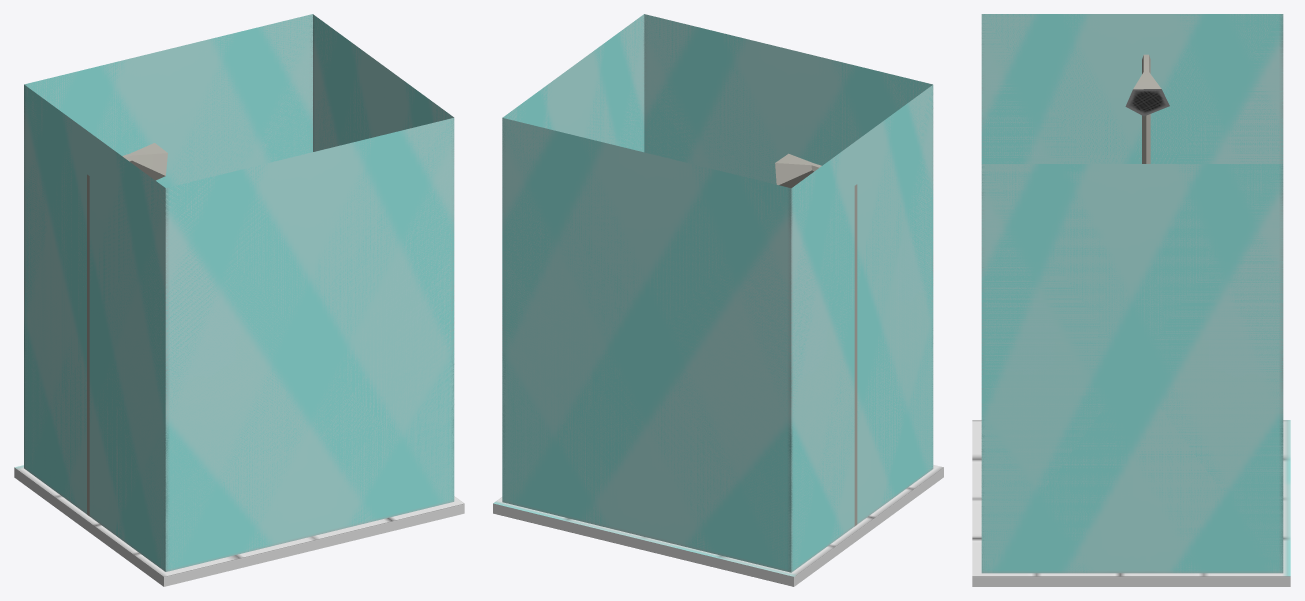
File: Shower.fbx
The picture shows the model from 3 angles, left to right: view 1: azimuth 30°, elevation 25°; view 2: azimuth 150°, elevation 25°; view 3: azimuth 270°, elevation 25°; orthographic projection. The views are drawn at different scales.
Visible parts, largest first — view 1: Maya_File_Assets:TexturedAssetsCurrent:JohnPepper02Assets:Sh; view 2: Maya_File_Assets:TexturedAssetsCurrent:JohnPepper02Assets:Sh; view 3: Maya_File_Assets:TexturedAssetsCurrent:JohnPepper02Assets:Sh.
Part boxes in pixels (x1,y1,x2,y2): Maya_File_Assets:TexturedAssetsCurrent:JohnPepper02Assets:Sh: (14, 14, 464, 586); Maya_File_Assets:TexturedAssetsCurrent:JohnPepper02Assets:Sh: (493, 14, 943, 586); Maya_File_Assets:TexturedAssetsCurrent:JohnPepper02Assets:Sh: (972, 14, 1290, 586).
Bounding box in the file's own units: 1.69 × 2.11 × 1.45.
